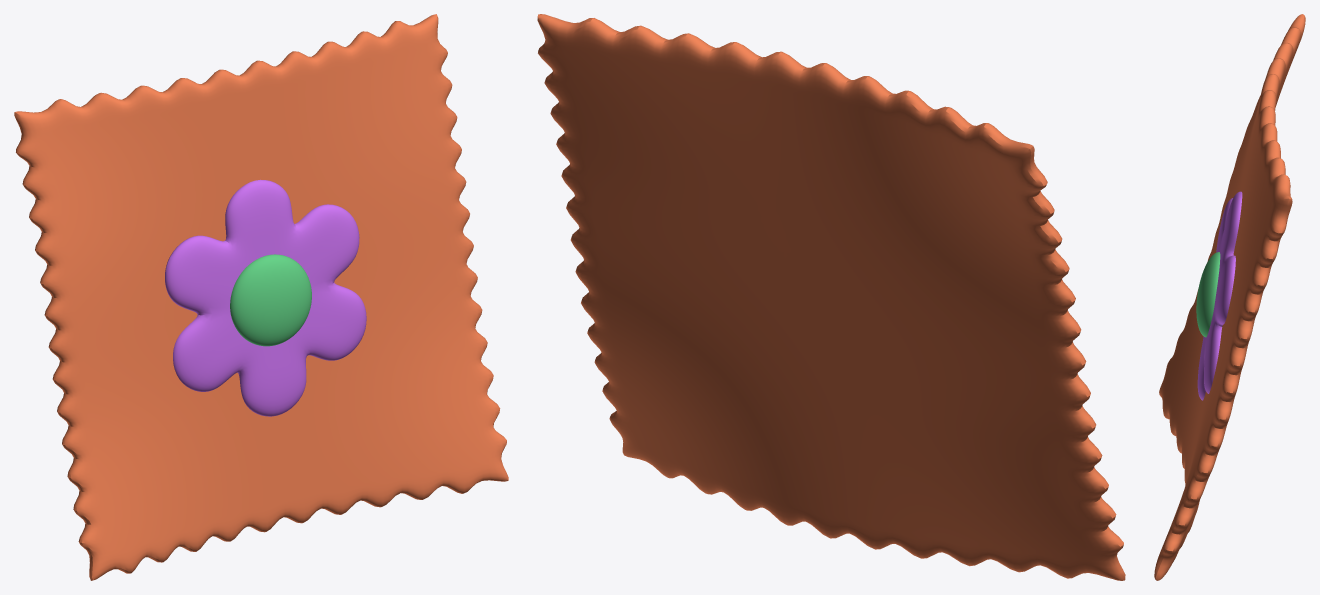
The model's file is 22. Crafting Patterns.glb.
3 renders of one model, left to right at view 1: azimuth 30°, elevation 25°; view 2: azimuth 150°, elevation 25°; view 3: azimuth 270°, elevation 25°, orthographic. The views are drawn at different scales.
Visible parts, largest first — view 1: Fabric, Flower, Sphere; view 2: Fabric; view 3: Fabric, Flower, Sphere.
Boxes of the visible parts, <box> form: Fabric: <box>14,14,508,580</box>; Flower: <box>165,179,366,416</box>; Sphere: <box>230,254,311,346</box>; Fabric: <box>537,14,1125,580</box>; Fabric: <box>1154,14,1305,580</box>; Flower: <box>1197,191,1242,400</box>; Sphere: <box>1196,252,1220,337</box>.
Size of the model in its own units: 0.6081 by 0.5893 by 0.2031.
